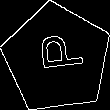P_W: (30, 37, 84, 80)
